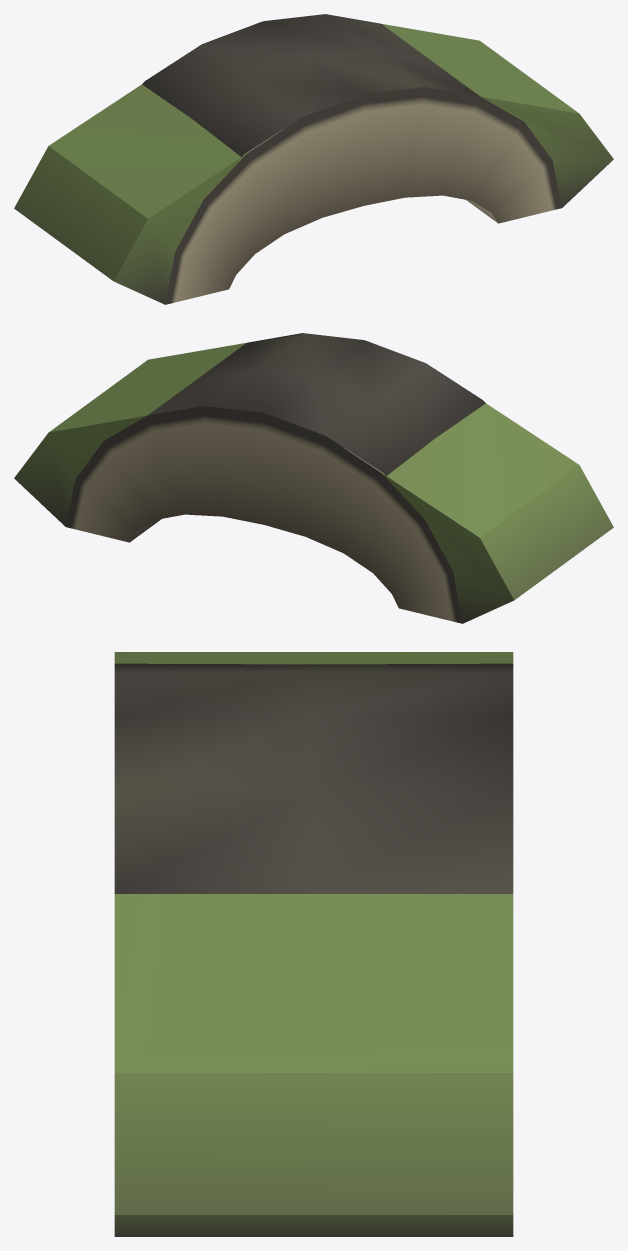
Rendered from log_tunnel_roof.glb.
The picture shows the model from 3 angles, top to bottom: view 1: azimuth 30°, elevation 25°; view 2: azimuth 150°, elevation 25°; view 3: azimuth 270°, elevation 25°; orthographic projection. The views are drawn at different scales.
Visible parts, largest first — view 1: log_tunnel_roof; view 2: log_tunnel_roof; view 3: log_tunnel_roof.
Part boxes in pixels (left/top/right/bottom): log_tunnel_roof: left=14, top=14, right=613, bottom=304; log_tunnel_roof: left=14, top=333, right=613, bottom=623; log_tunnel_roof: left=114, top=652, right=513, bottom=1236.
Bounding box in the file's own units: 2.9 × 0.9 × 1.
